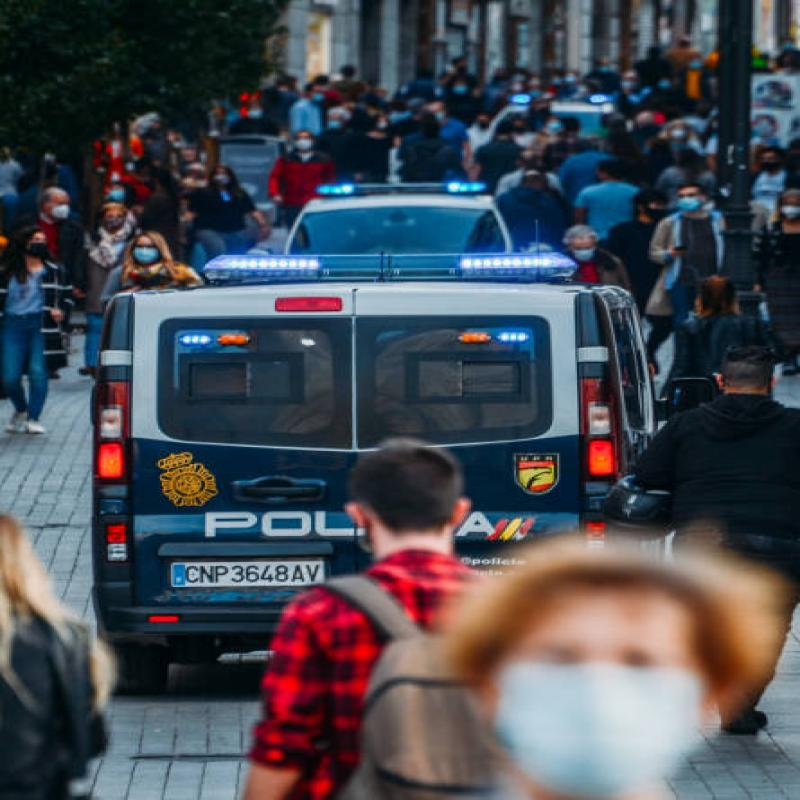AmbulanceSiren: (214, 234, 589, 307), (294, 168, 490, 196)
